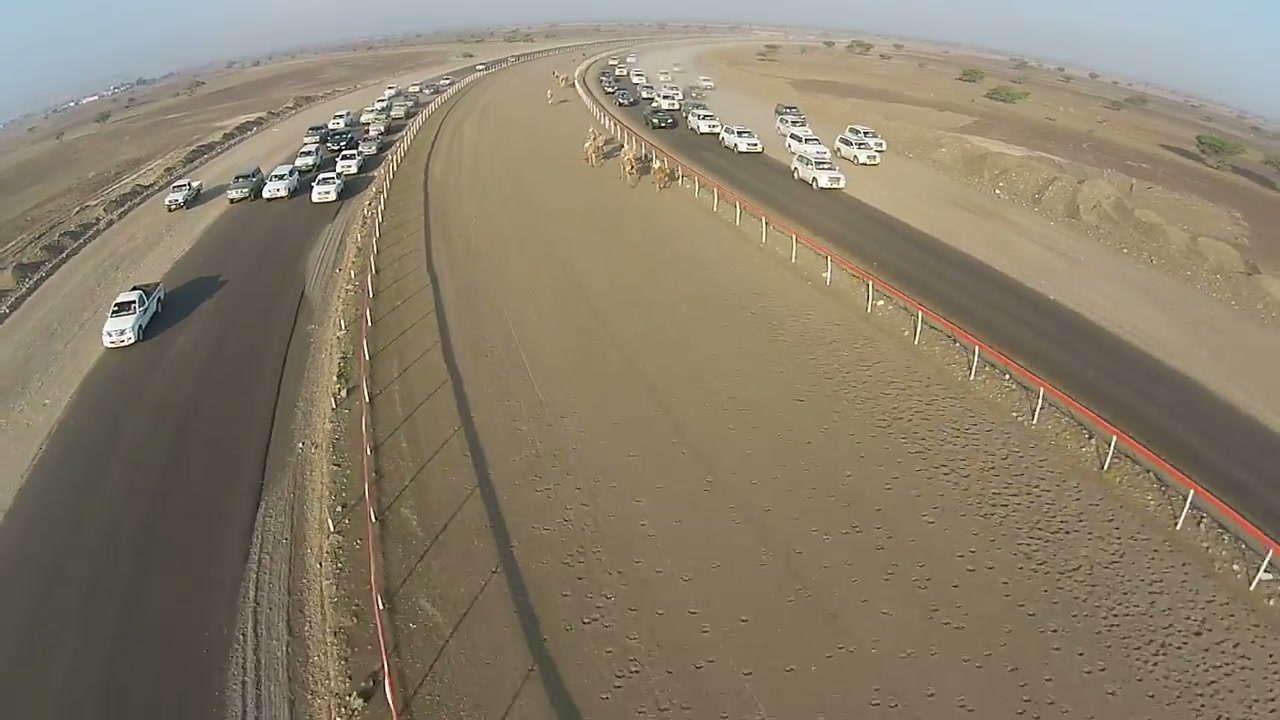animal_foot_print: (895, 373, 1279, 719), (506, 442, 820, 719)
